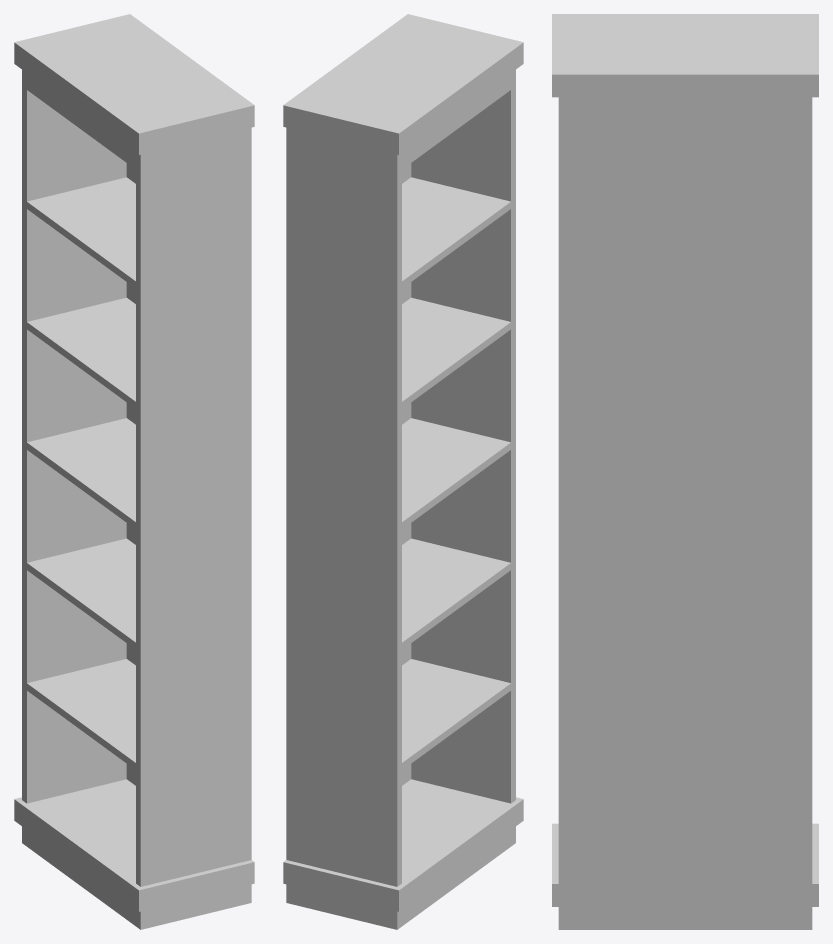
File: Bookcase02.fbx
3 renders of one model, left to right at view 1: azimuth 30°, elevation 25°; view 2: azimuth 150°, elevation 25°; view 3: azimuth 270°, elevation 25°, orthographic. The views are drawn at different scales.
Parts seen in each view (by area): view 1: Bookcase02; view 2: Bookcase02; view 3: Bookcase02.
Boxes of the visible parts, x1,y1,x2,y2 form: Bookcase02: [14, 14, 254, 929]; Bookcase02: [283, 14, 523, 929]; Bookcase02: [552, 14, 818, 929].
Size of the model in its own units: 0.2821 by 0.5259 by 1.86.
